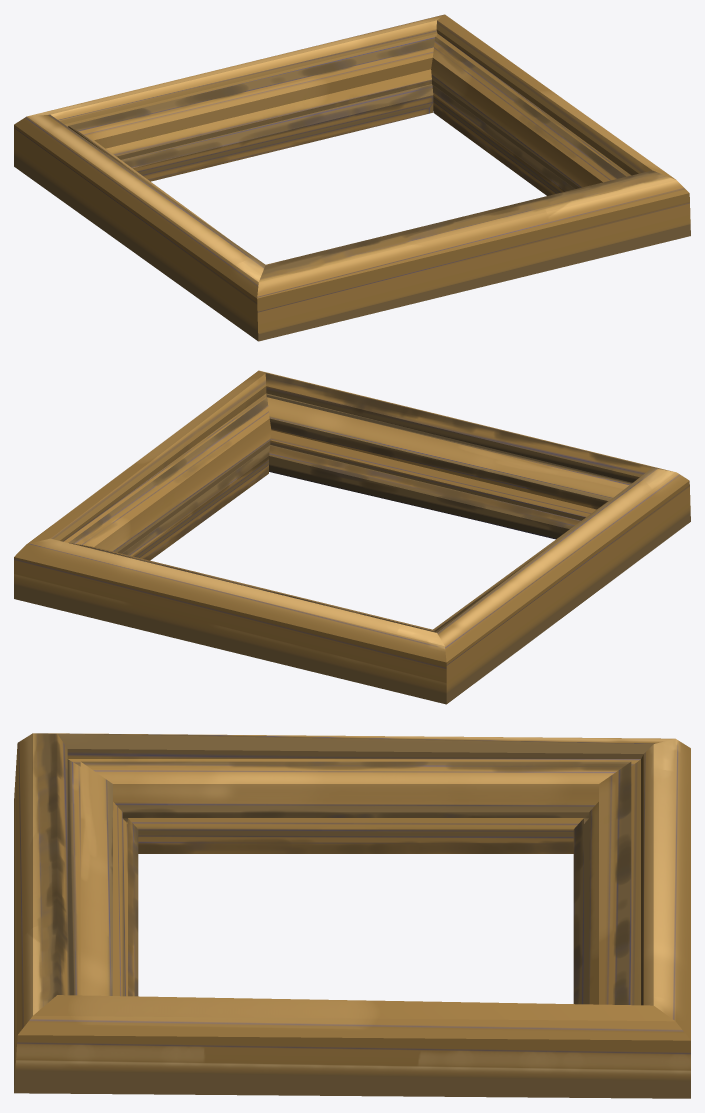
Rendered from photoframe_seiho.fbx.
The picture shows the model from 3 angles, top to bottom: view 1: azimuth 30°, elevation 25°; view 2: azimuth 150°, elevation 25°; view 3: azimuth 270°, elevation 25°; orthographic projection. The views are drawn at different scales.
Visible parts, largest first — view 1: pasted__photoframe; view 2: pasted__photoframe; view 3: pasted__photoframe.
Part boxes in pixels (x1,y1,x2,y2): pasted__photoframe: [14, 14, 690, 341]; pasted__photoframe: [14, 370, 690, 704]; pasted__photoframe: [14, 733, 690, 1098].
Size of the model in its own units: 269 by 42.02 by 263.
